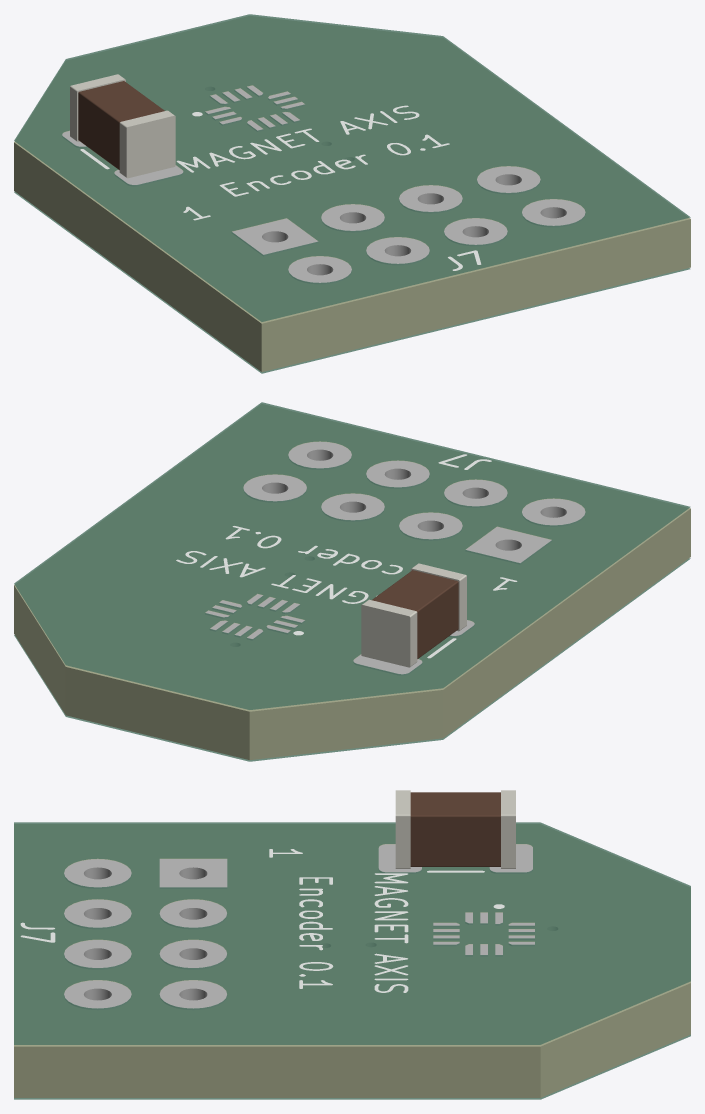
The model's file is Encoder.glb.
The picture shows the model from 3 angles, top to bottom: view 1: azimuth 30°, elevation 25°; view 2: azimuth 150°, elevation 25°; view 3: azimuth 270°, elevation 25°; orthographic projection. The views are drawn at different scales.
Parts seen in each view (by area): view 1: =>[0:1:1:8], =>[0:1:1:6], =>[0:1:1:4], =>[0:1:1:3], =>[0:1:1:5], =>[0:1:1:7]; view 2: =>[0:1:1:8], =>[0:1:1:6], =>[0:1:1:4], =>[0:1:1:3], =>[0:1:1:5], =>[0:1:1:7]; view 3: =>[0:1:1:8], =>[0:1:1:6], =>[0:1:1:4], =>[0:1:1:3], =>[0:1:1:5], =>[0:1:1:7].
Boxes of the visible parts, left/top/right/bottom form: =>[0:1:1:8]: left=14, top=16, right=690, bottom=371; =>[0:1:1:6]: left=14, top=14, right=690, bottom=321; =>[0:1:1:4]: left=62, top=85, right=585, bottom=283; =>[0:1:1:3]: left=70, top=74, right=175, bottom=178; =>[0:1:1:5]: left=80, top=105, right=481, bottom=270; =>[0:1:1:7]: left=14, top=191, right=690, bottom=373; =>[0:1:1:8]: left=14, top=404, right=690, bottom=759; =>[0:1:1:6]: left=14, top=402, right=690, bottom=709; =>[0:1:1:4]: left=205, top=441, right=585, bottom=674; =>[0:1:1:3]: left=361, top=563, right=466, bottom=667; =>[0:1:1:5]: left=176, top=454, right=517, bottom=658; =>[0:1:1:7]: left=14, top=558, right=690, bottom=761; =>[0:1:1:8]: left=14, top=824, right=690, bottom=1097; =>[0:1:1:6]: left=14, top=822, right=690, bottom=1044; =>[0:1:1:4]: left=64, top=844, right=534, bottom=1009; =>[0:1:1:3]: left=395, top=790, right=515, bottom=868; =>[0:1:1:5]: left=20, top=849, right=504, bottom=992; =>[0:1:1:7]: left=14, top=1034, right=690, bottom=1099.
Bounding box in the file's own units: 0.014 × 0.00324 × 0.018.
